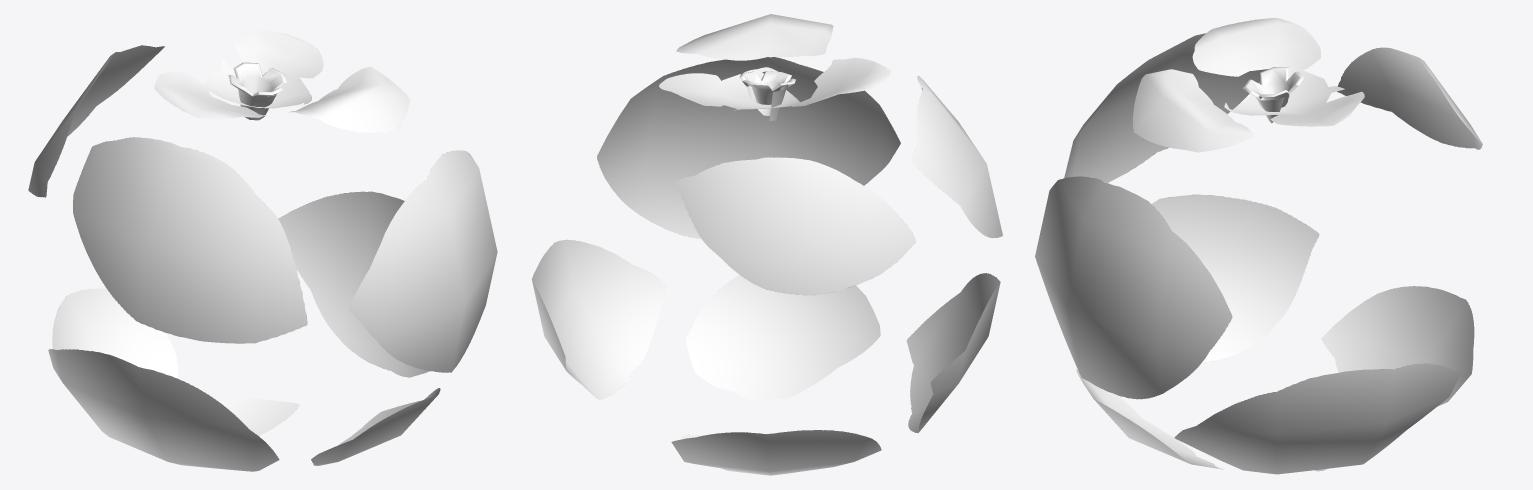
Rendered from Snowberry.fbx.
3 renders of one model, left to right at view 1: azimuth 30°, elevation 25°; view 2: azimuth 150°, elevation 25°; view 3: azimuth 270°, elevation 25°, orthographic.
Visible parts, largest first — view 1: snowberry; view 2: snowberry; view 3: snowberry.
Boxes of the visible parts, x1,y1,x2,y2 form: snowberry: (28, 30, 497, 471); snowberry: (531, 14, 1002, 475); snowberry: (1035, 18, 1482, 474).
Bounding box in the file's own units: 1.45 × 1.28 × 1.45.
